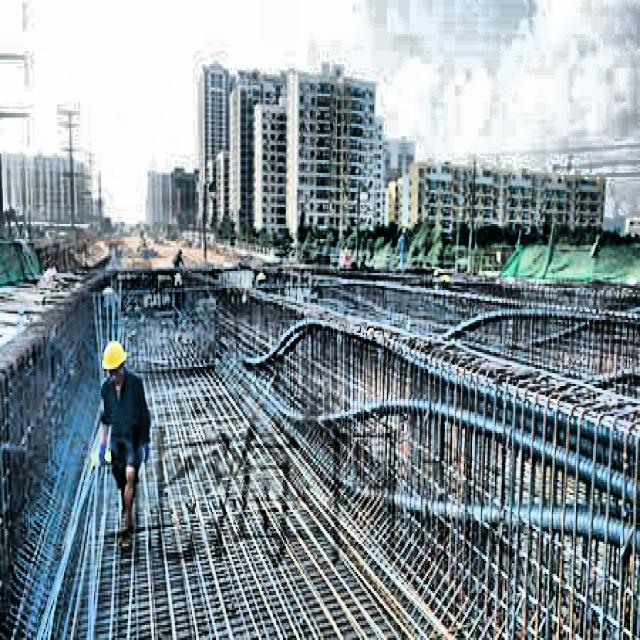helmet: (100, 339, 130, 386)
